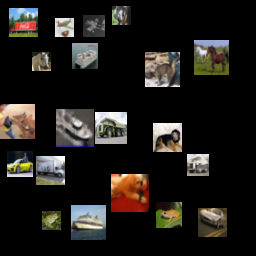airplane: (83, 15, 105, 37), (55, 18, 74, 37)
automobile: (198, 208, 227, 237), (7, 151, 33, 177)
cat: (145, 52, 180, 87), (112, 6, 131, 25)
deer: (0, 104, 35, 139)
dog: (111, 174, 149, 212), (153, 123, 182, 152)
frog: (156, 202, 182, 228), (42, 211, 61, 230)
ship: (56, 109, 94, 147), (71, 205, 106, 240), (72, 43, 98, 69)
